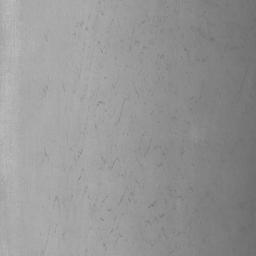Silk spot: (43, 0, 238, 256), (232, 71, 256, 113)
